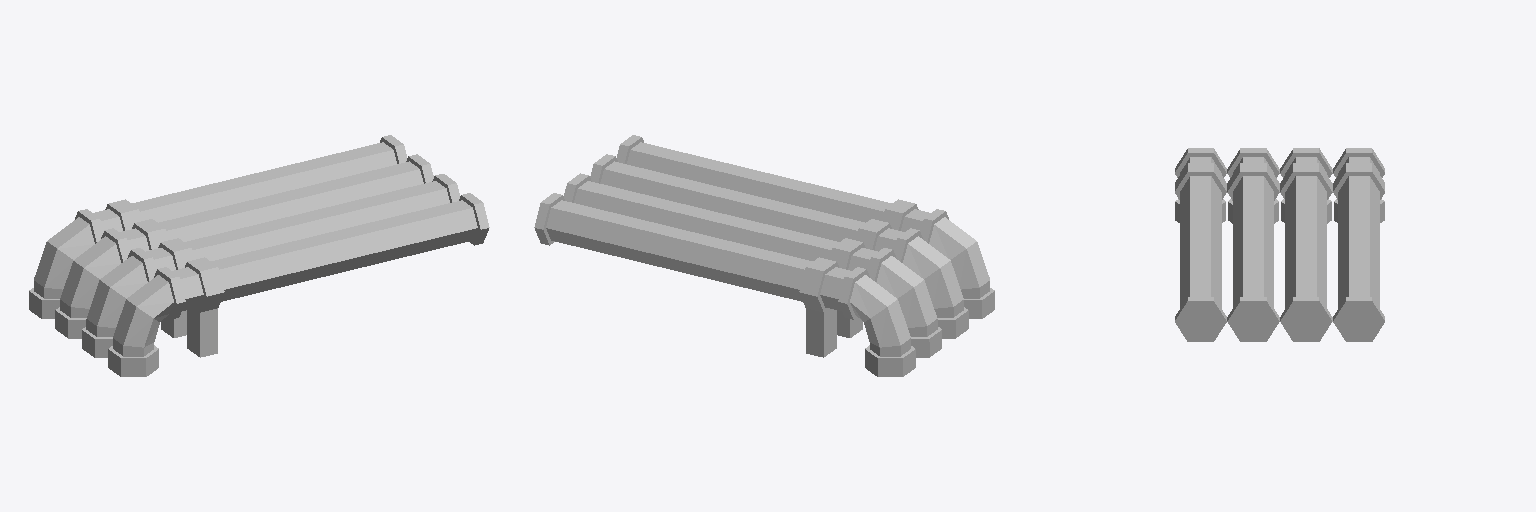
Rendered from 1x2_Pipes_endpoint.obj.
3 renders of one model, left to right at view 1: azimuth 30°, elevation 25°; view 2: azimuth 150°, elevation 25°; view 3: azimuth 270°, elevation 25°, orthographic.
Parts seen in each view (by area): view 1: pipe; view 2: pipe; view 3: pipe.
Boxes of the visible parts, x1,y1,x2,y2 form: pipe: [29, 135, 489, 376]; pipe: [534, 135, 994, 376]; pipe: [1175, 148, 1384, 341].
Bounding box in the file's own units: 2 × 0.4568 × 1.01.